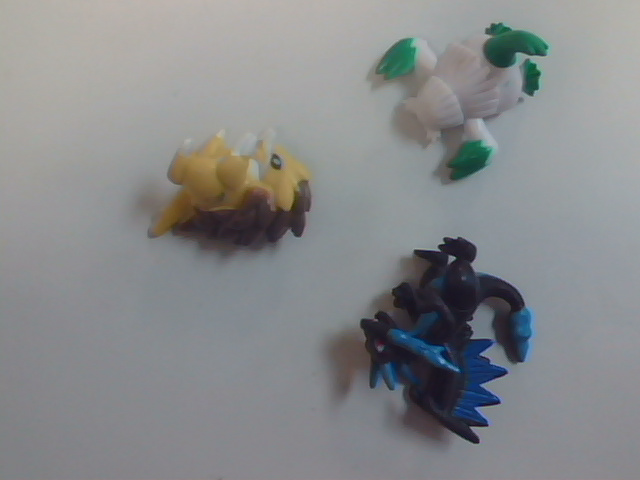abomasnow: (372, 10, 584, 209)
charizard: (349, 242, 569, 451)
sandslash: (146, 99, 328, 294)
